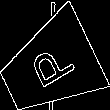P_SW: (22, 39, 77, 96)
